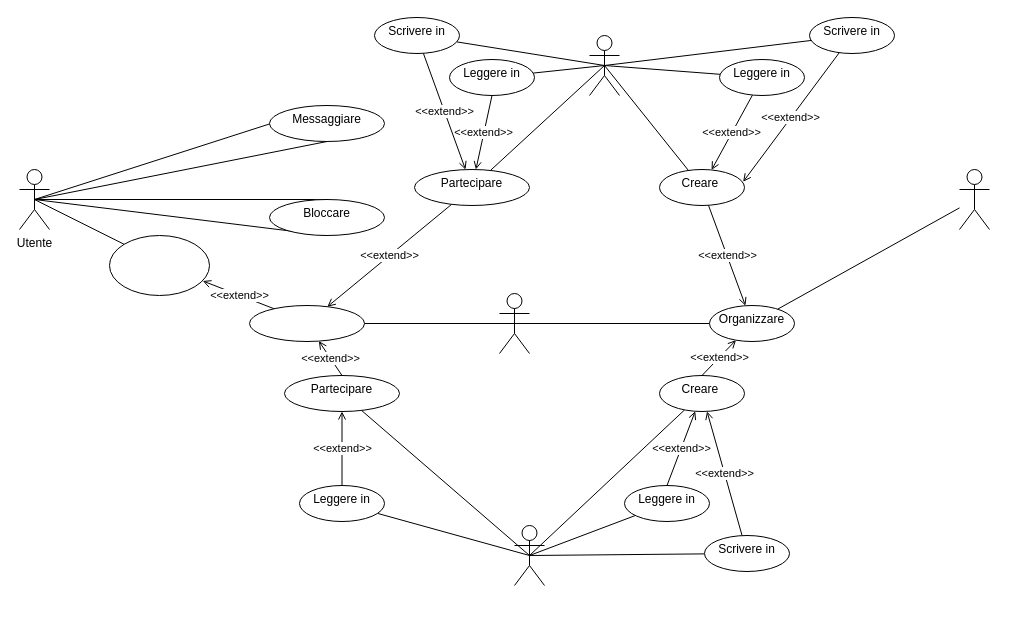
This 1029x624 diagram has some shape labels left out. The box of each missing label's shape, as (x1, y1, x2, y2) in pixels:
Avere Account Personale: (108, 234, 210, 296)
Evento: (498, 292, 530, 354)
Gruppo messaggi dell'Organizzatore: (514, 524, 544, 586)
Gruppo messaggi liberi: (588, 34, 620, 96)
Iscriversi: (248, 304, 364, 342)
Organizzatore: (958, 168, 990, 230)
